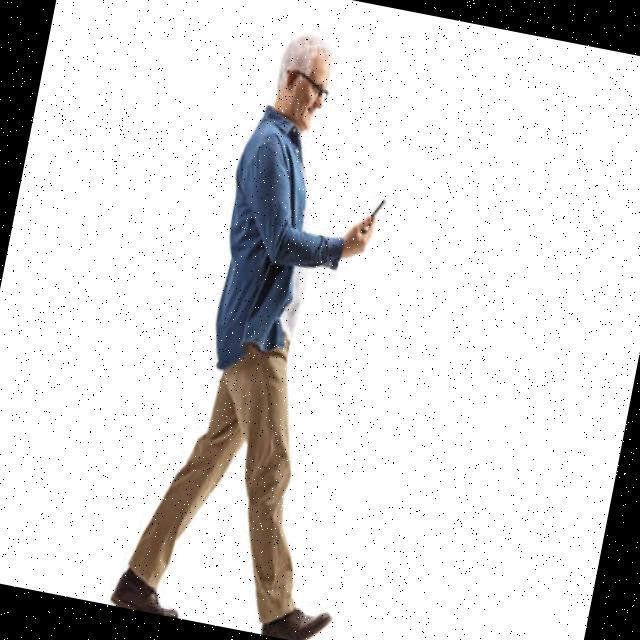Person: (110, 16, 440, 640)
